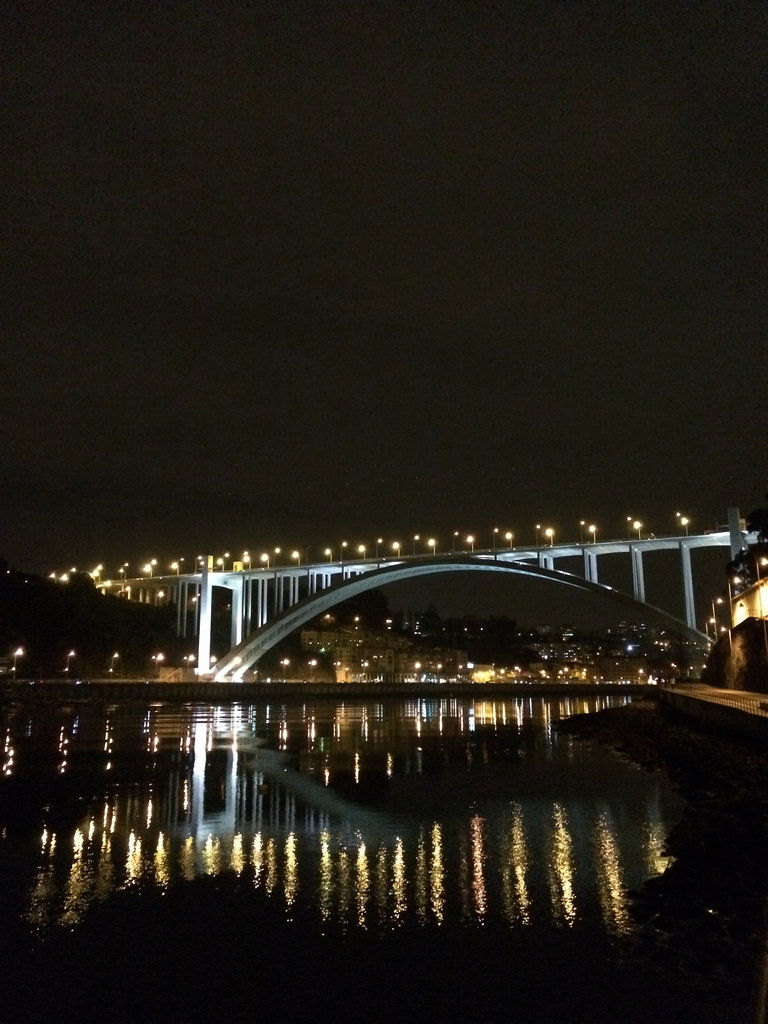arrabida: (98, 520, 762, 682)
